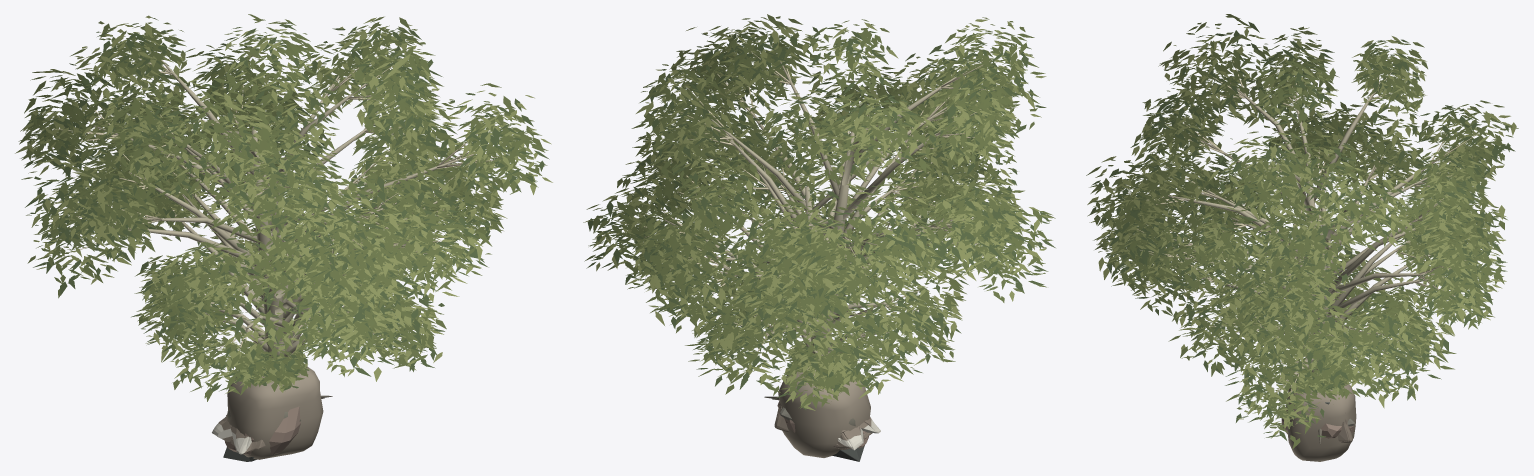
Rendered from environment.glb.
3 renders of one model, left to right at view 1: azimuth 30°, elevation 25°; view 2: azimuth 150°, elevation 25°; view 3: azimuth 270°, elevation 25°, orthographic. The views are drawn at different scales.
Visible parts, largest first — view 1: leaf_crown.001, leaf_crown.002, leaf_crown, leaf_crown.003, leaf_crown.004, leaf_crown.005, granite.001, rhyolite, leaf_shrub.002, leaf_shrub.001, bark_fork.009, leaf_shrub (+2 smaller); view 2: leaf_crown.001, leaf_crown.002, leaf_crown, leaf_crown.003, leaf_crown.004, leaf_crown.005, granite.001, bark_trunk.001, bark_fork.011, bark_fork.012, bark_fork.021, bark_fork.013; view 3: leaf_crown.001, leaf_crown.002, leaf_crown, leaf_crown.003, leaf_crown.004, leaf_crown.005, granite.001, bark_fork.003, bark_fork.019, bark_fork.027, bark_fork.017.
Part boxes in pixels (x1,y1,x2,y2): leaf_crown.001: (64,14,442,287); leaf_crown.002: (15,36,492,296); leaf_crown: (21,69,552,340); leaf_crown.003: (90,99,458,372); leaf_crown.004: (131,224,446,383); leaf_crown.005: (135,218,418,401); granite.001: (226,366,323,459); rhyolite: (225,406,300,454); leaf_shrub.002: (234,339,307,391); leaf_shrub.001: (237,341,309,387); bark_fork.009: (128,171,256,266); leaf_shrub: (236,343,309,392); leaf_crown.001: (631,14,1046,291); leaf_crown.002: (583,39,1029,323); leaf_crown: (622,27,1055,342); leaf_crown.003: (626,116,1026,355); leaf_crown.004: (685,182,941,398); leaf_crown.005: (696,205,968,410); granite.001: (778,371,870,457); bark_trunk.001: (811,131,854,358); bark_fork.011: (711,119,828,238); bark_fork.012: (843,121,954,219); bark_fork.021: (721,129,799,227); bark_fork.013: (780,61,839,201); leaf_crown.001: (1128,14,1430,316); leaf_crown.002: (1096,82,1518,399); leaf_crown: (1086,97,1507,369); leaf_crown.003: (1111,156,1507,397); leaf_crown.004: (1168,237,1456,449); leaf_crown.005: (1199,259,1438,426); granite.001: (1286,384,1356,461); bark_fork.003: (1330,273,1434,293); bark_fork.019: (1328,213,1427,292); bark_fork.027: (1327,278,1431,317); bark_fork.017: (1330,229,1406,317).
Size of the model in its own units: 11.32 by 10.43 by 10.74.
